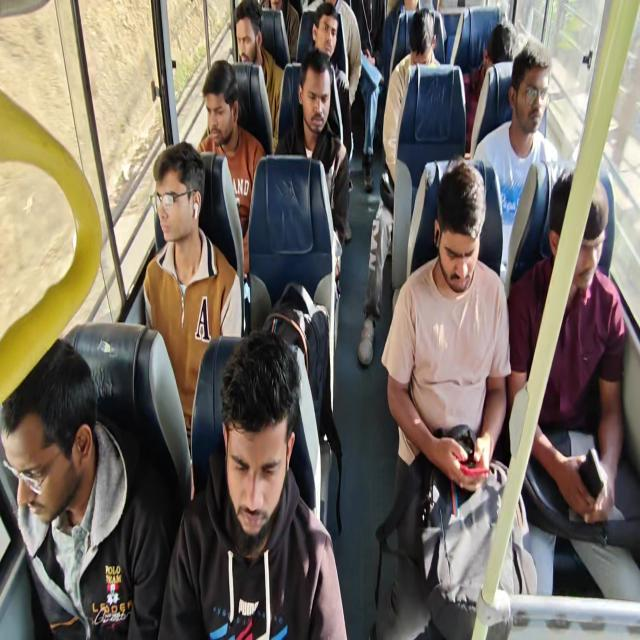person: (2, 1, 637, 638), (372, 158, 514, 638), (157, 329, 348, 639), (507, 168, 639, 600), (1, 337, 174, 638), (142, 141, 243, 457), (358, 8, 441, 366), (472, 36, 562, 292), (274, 48, 350, 290), (196, 60, 266, 278), (382, 8, 441, 188), (233, 0, 285, 145), (308, 2, 353, 162), (349, 0, 385, 192), (466, 19, 516, 152), (382, 0, 441, 90), (259, 0, 300, 63)
